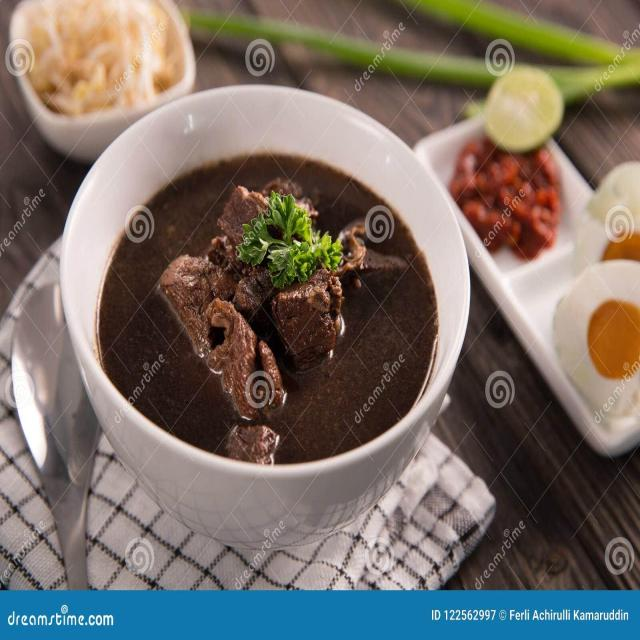Rawon: (95, 141, 437, 456)
